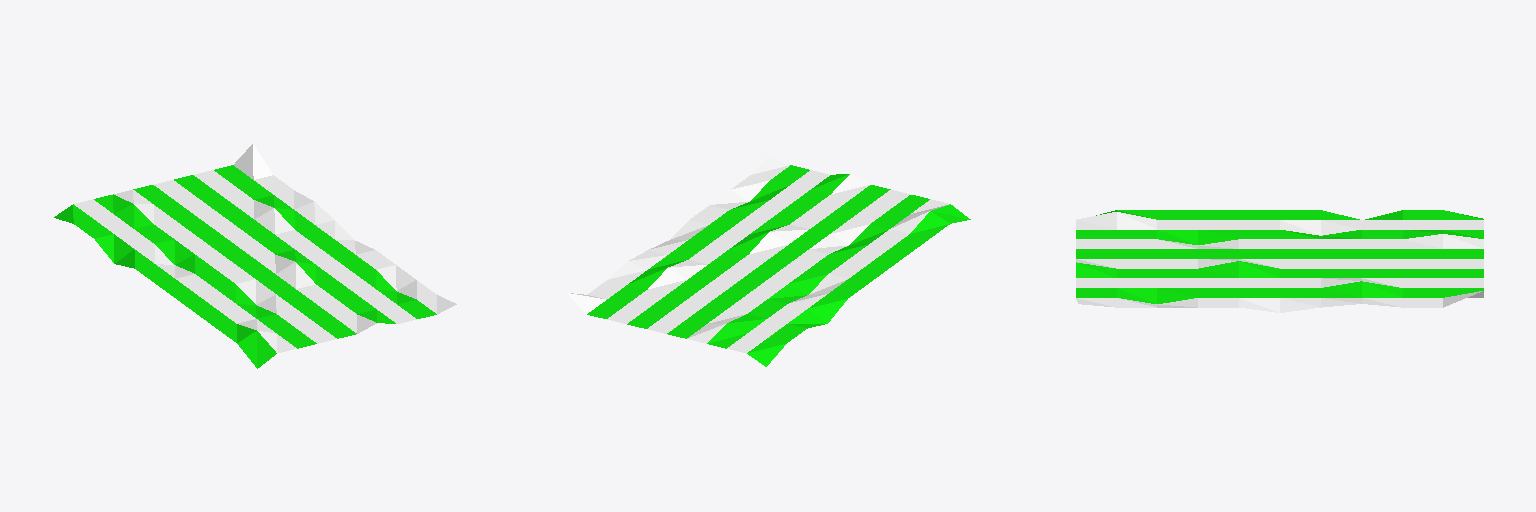
The model's file is towel.obj.
3 renders of one model, left to right at view 1: azimuth 30°, elevation 25°; view 2: azimuth 150°, elevation 25°; view 3: azimuth 270°, elevation 25°, orthographic.
Parts seen in each view (by area): view 1: pPlane1; view 2: pPlane1; view 3: pPlane1.
Boxes of the visible parts, <box> form: pPlane1: <box>54,144,456,368</box>; pPlane1: <box>567,157,970,366</box>; pPlane1: <box>1076,210,1483,312</box>.
Size of the model in its own units: 5.06 by 0.6644 by 8.9.